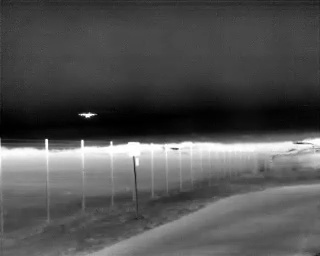AIRPLANE: (77, 110, 99, 120)
